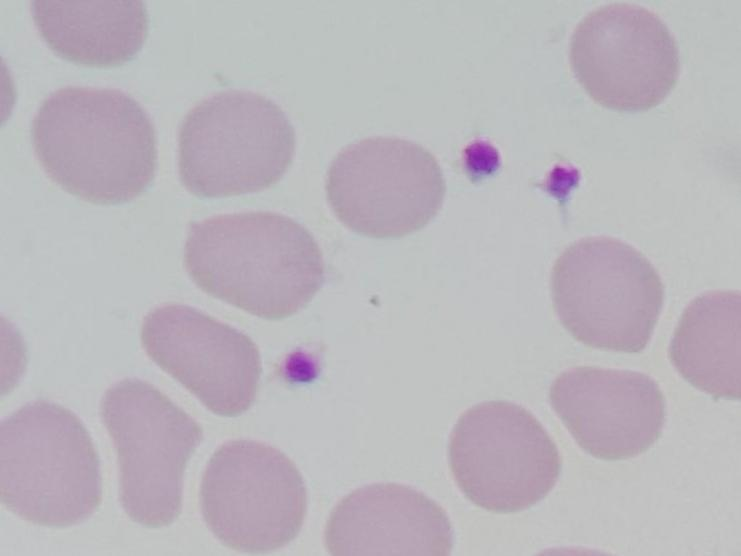Uninfected: (101, 377, 204, 529), (183, 211, 325, 319), (34, 87, 155, 205), (140, 302, 262, 416), (549, 235, 663, 352), (0, 399, 102, 529), (177, 90, 297, 198), (448, 399, 562, 512), (199, 439, 310, 552), (569, 3, 680, 115), (324, 136, 444, 237), (550, 366, 665, 461), (323, 482, 453, 556), (672, 289, 741, 401), (32, 1, 148, 66)
